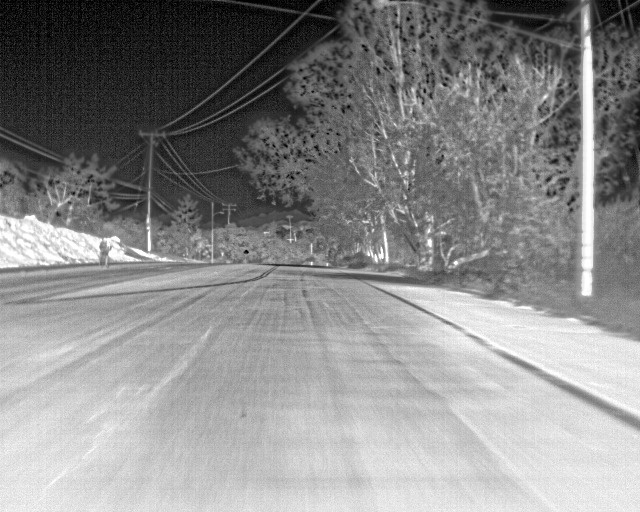people: (98, 237, 115, 269)
